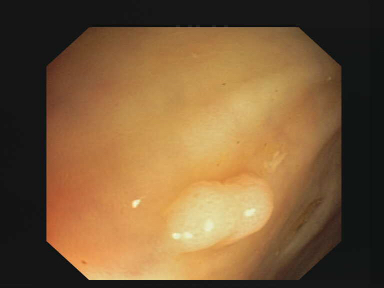polyp: (167, 172, 275, 255)
